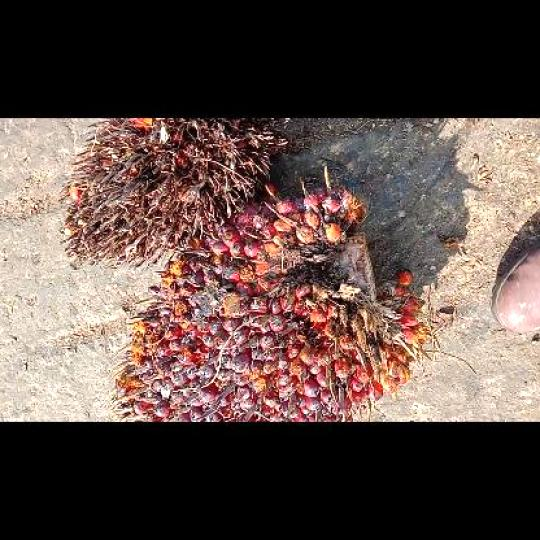masak: (111, 166, 429, 421)
terlalu masak: (59, 117, 286, 267)
